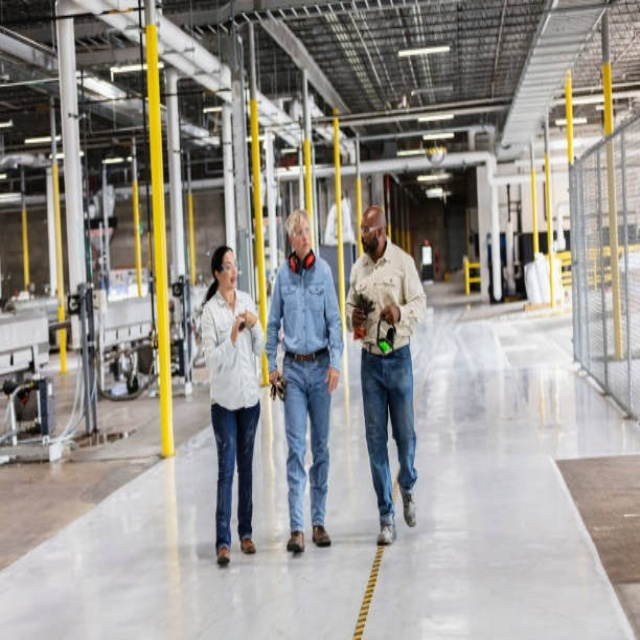Gafas: (290, 223, 312, 237), (360, 221, 383, 234), (220, 257, 239, 271)
Sin_guantes: (352, 307, 368, 333), (379, 306, 396, 328), (229, 314, 242, 342), (235, 311, 256, 328), (327, 368, 339, 392), (268, 371, 279, 387)
